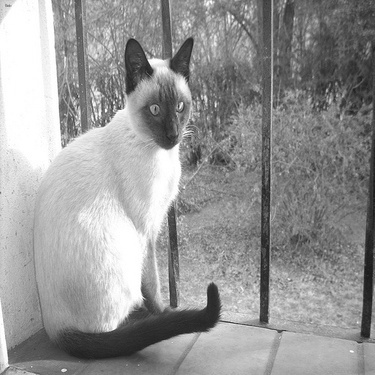cat: (22, 33, 222, 360)
